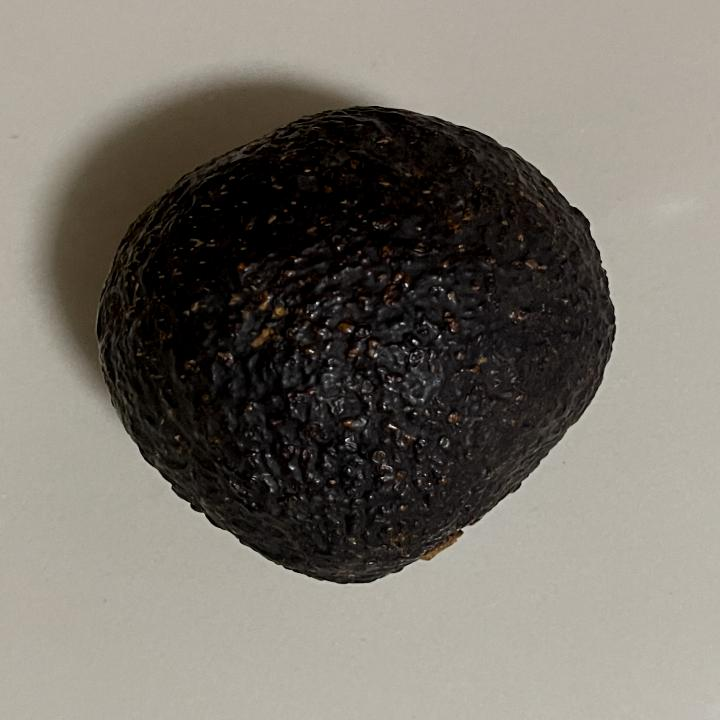Level3: (86, 96, 628, 596)
